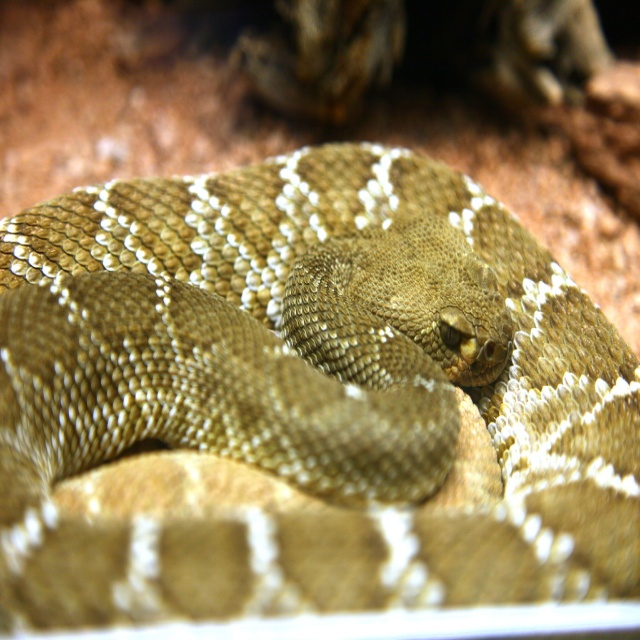Snake: (0, 142, 639, 640)
